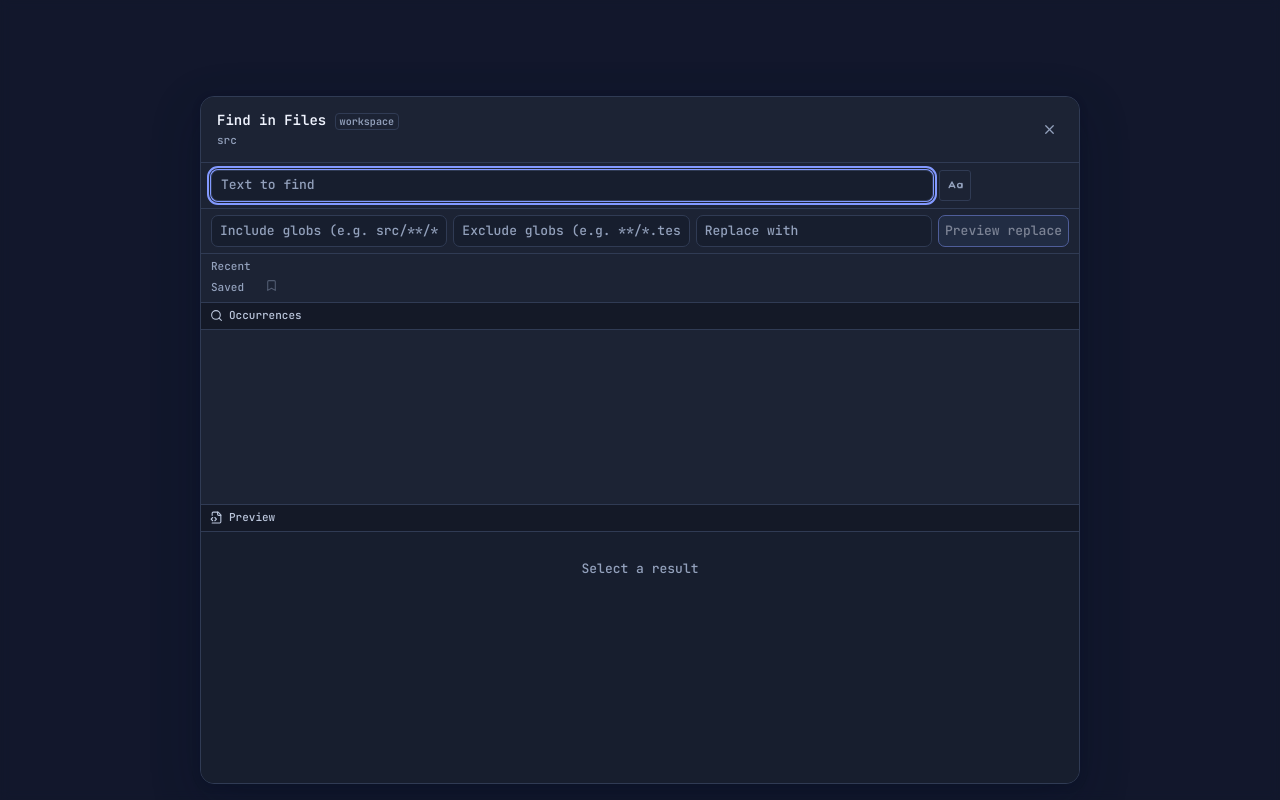
Test: FindInFilesDialog responsive result layout › keeps loading status and controls accessible while a search is pending
Type "needle" into the field labelled "Text to find" at {"x": 572, "y": 186}, box [211,170,933,201]
Wait 600 ms
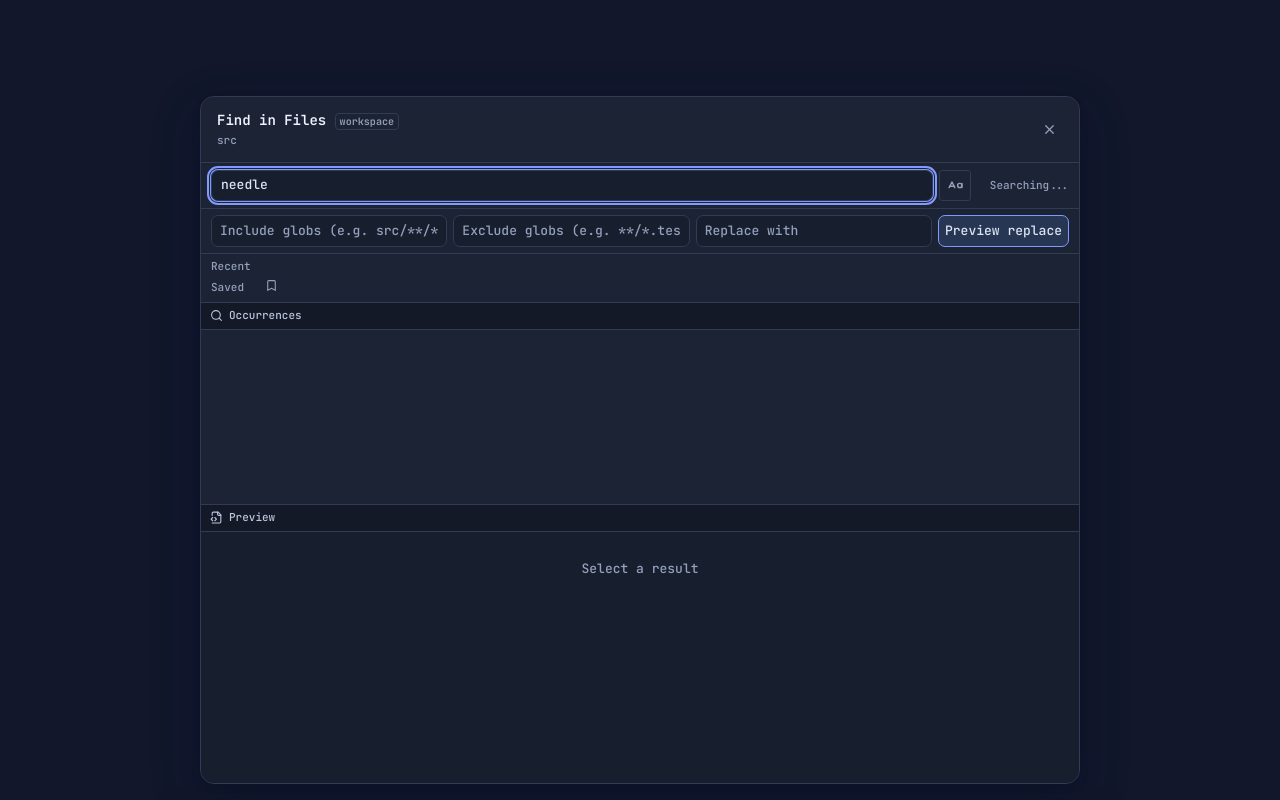
Expected: the checkbox named "Match case" is shown, [939,170,971,201]
Now the message reads "Searching...", box [990,178,1069,192]
